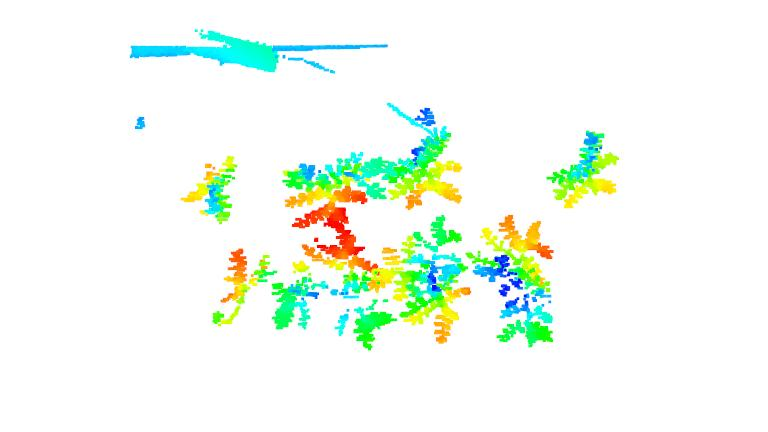chickpea: (293, 219, 397, 348), (369, 215, 472, 342), (472, 212, 560, 350), (281, 151, 394, 234), (377, 126, 467, 208), (545, 129, 622, 205), (206, 249, 282, 325), (178, 151, 244, 224)
